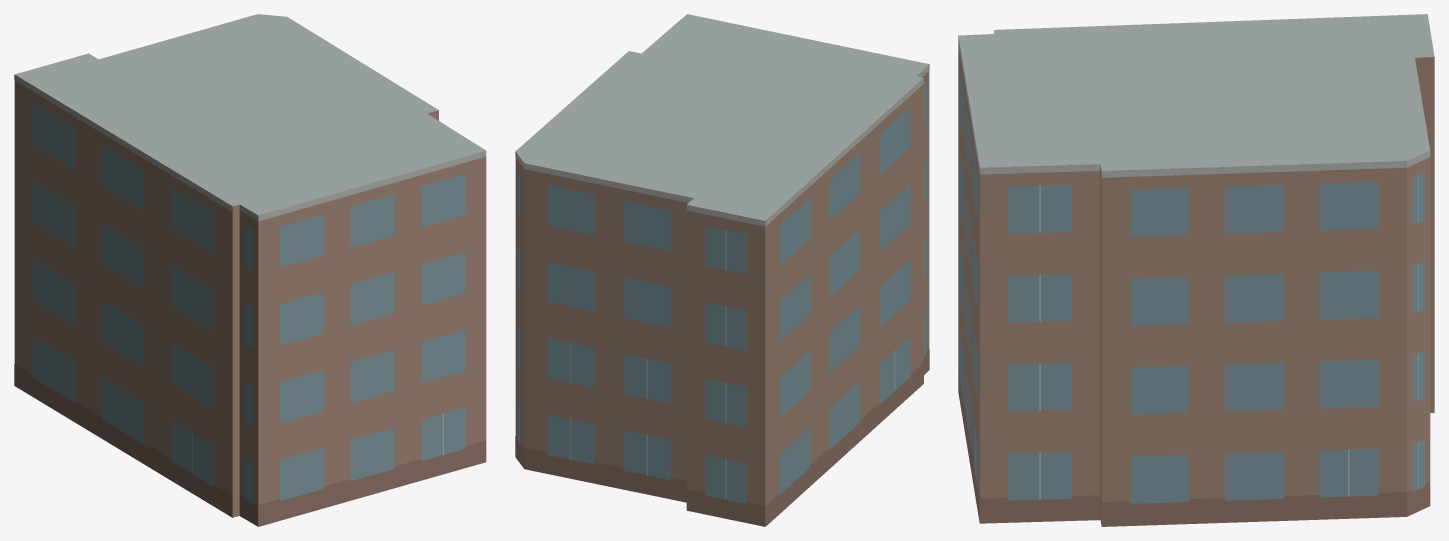
The model's file is survey-upis-32659569.glb.
3 renders of one model, left to right at view 1: azimuth 30°, elevation 25°; view 2: azimuth 150°, elevation 25°; view 3: azimuth 270°, elevation 25°, orthographic. The views are drawn at different scales.
Visible parts, largest first — view 1: survey-upis-32659569.tmp; view 2: survey-upis-32659569.tmp; view 3: survey-upis-32659569.tmp.
Part boxes in pixels (x1,y1,x2,y2): survey-upis-32659569.tmp: (14,14,486,526); survey-upis-32659569.tmp: (515,14,929,526); survey-upis-32659569.tmp: (958,14,1434,526).
Size of the model in its own units: 12.13 by 12.8 by 15.54.
